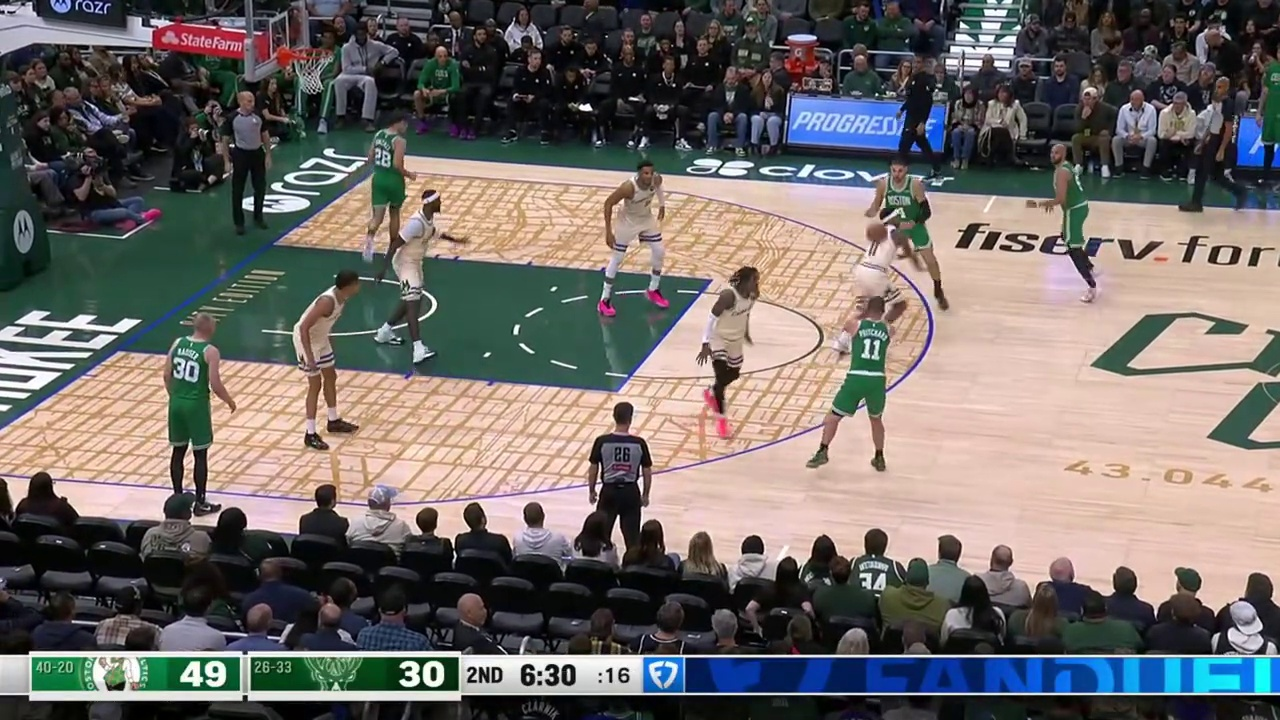11_PaytonPrichard: (818, 293, 914, 482)
21_OusmaneDieng: (289, 256, 370, 442)
28_HugoGonzalez: (365, 104, 423, 198)
30_SamHauser: (155, 311, 242, 491)
34_GiannisAntetokounmpo: (596, 154, 679, 315)
4_NikolaVucecic: (872, 151, 934, 209)
7_KevinPorter: (698, 258, 770, 442)
9_BobbyPortis: (380, 184, 460, 373)
9_DerrickWhite: (1019, 134, 1111, 305)
